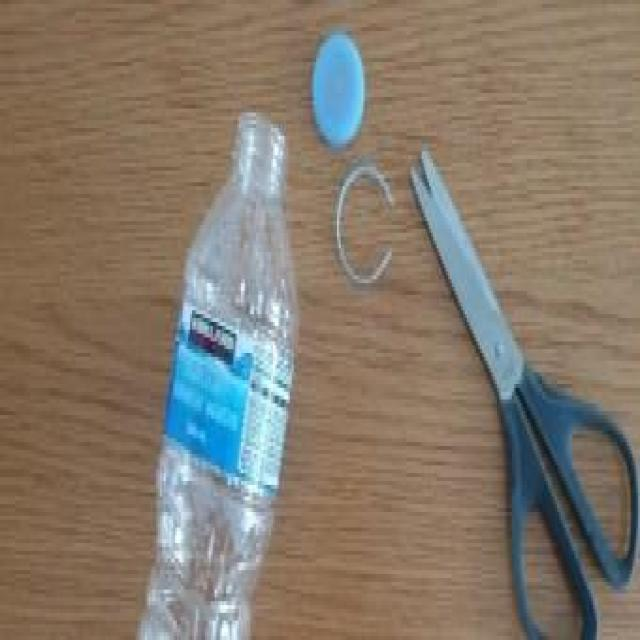bottle: (134, 112, 298, 640)
